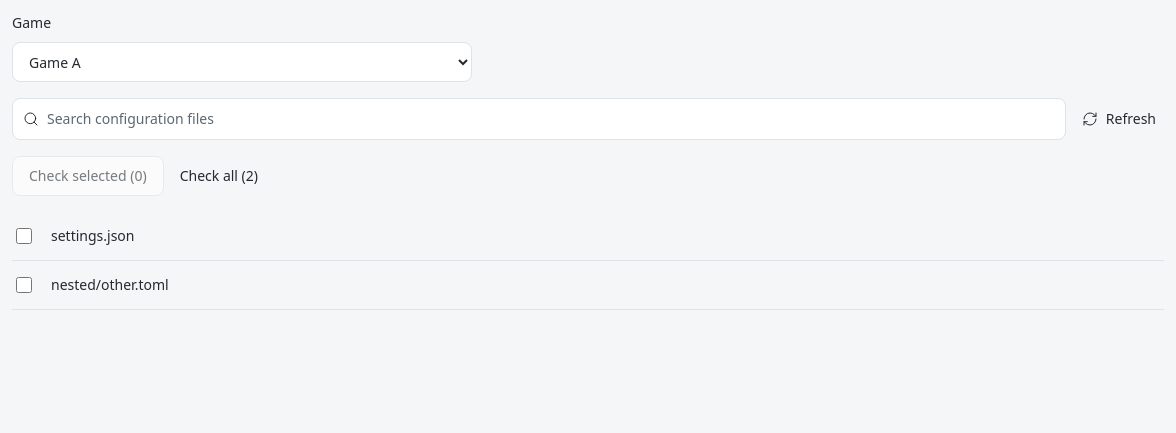
Test: opens original text only on the filename action and never writes configurations
Step 1. Click the button with class "managed-config-name" showing "settings.json" → click(93, 236), box [47,216,138,256]
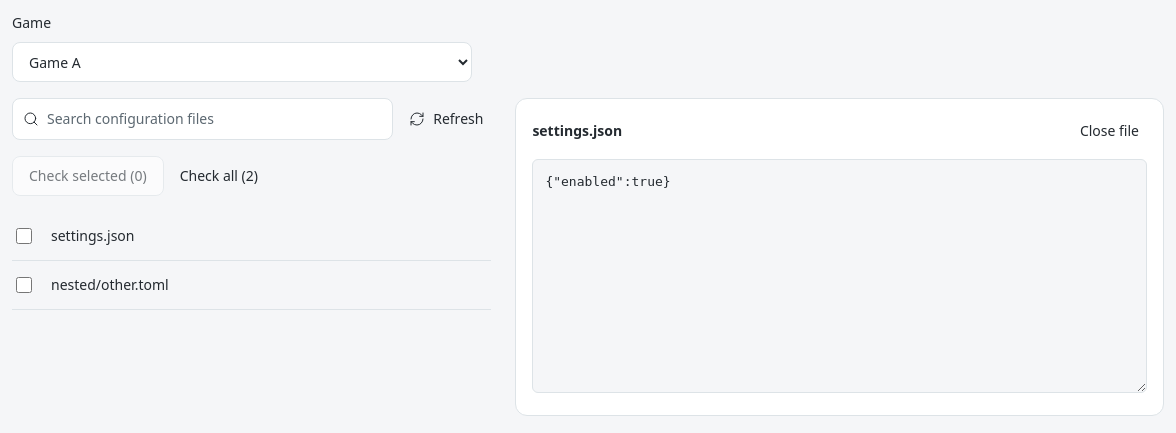
expect the text box named "Configuration contents" holds "{\"enabled\":true}": met, box [532,159,1147,393]
